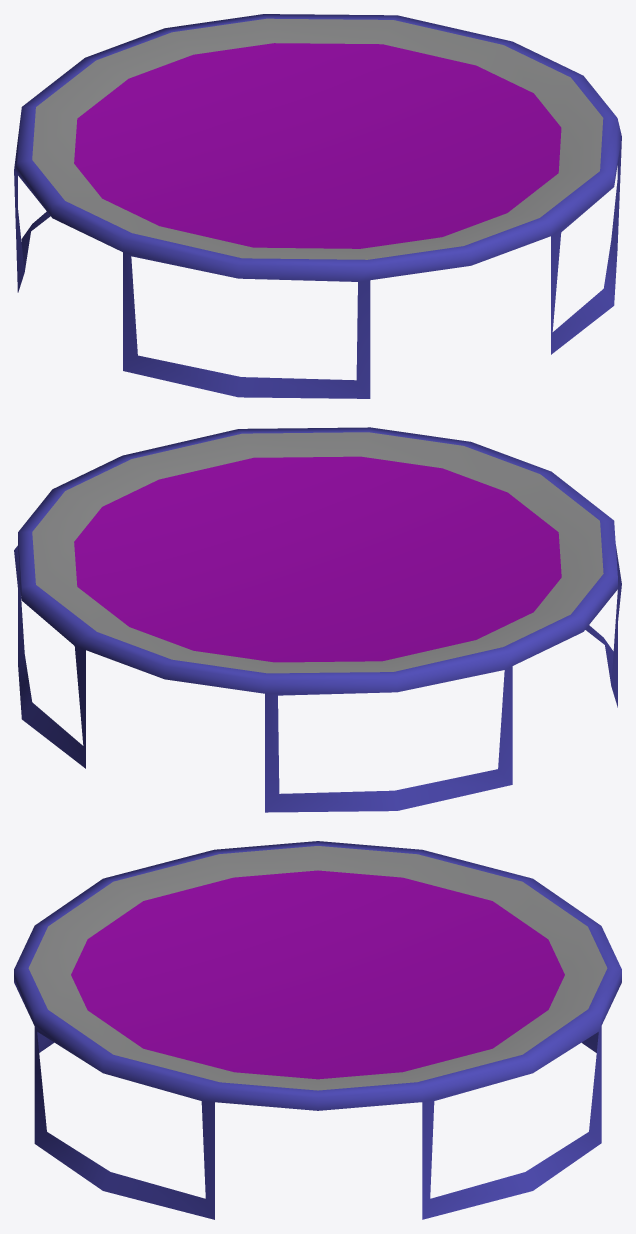
File: trampoline.fbx
The picture shows the model from 3 angles, top to bottom: view 1: azimuth 30°, elevation 25°; view 2: azimuth 150°, elevation 25°; view 3: azimuth 270°, elevation 25°; orthographic projection.
Visible parts, largest first — view 1: Cylinder.002; view 2: Cylinder.002; view 3: Cylinder.002.
Boxes of the visible parts, <box> form: Cylinder.002: <box>14,14,621,398</box>; Cylinder.002: <box>14,427,621,812</box>; Cylinder.002: <box>14,841,621,1219</box>.
Size of the model in its own units: 788 by 189 by 788.
